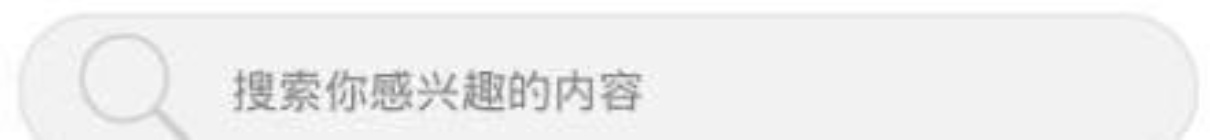EditText: (1, 1, 1209, 139)
